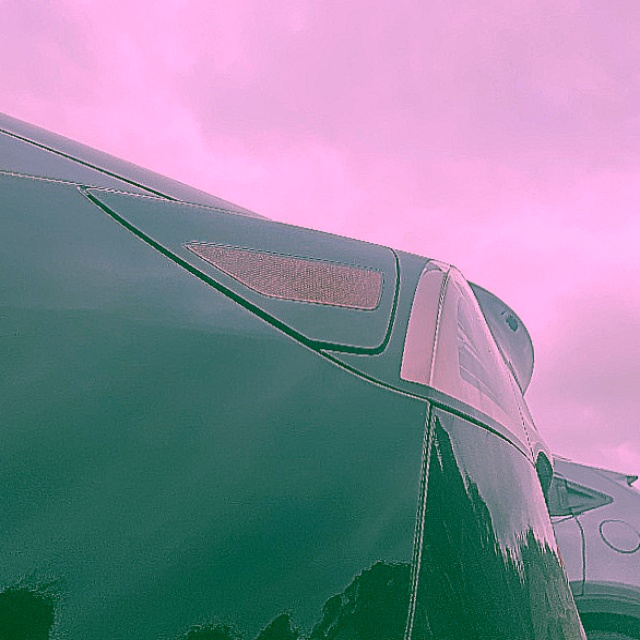reflector: (182, 242, 387, 309)
